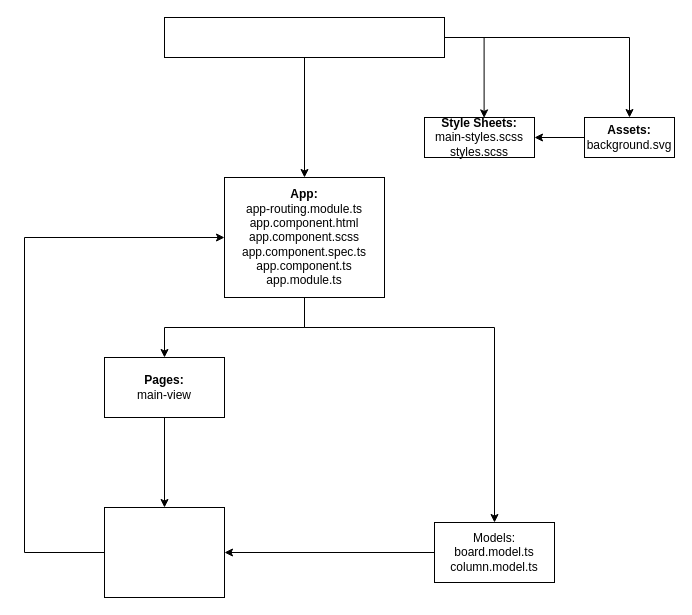
Some shapes in this 692 by 615 pixel diagram are drawn without their labels. The centre of each missing label's shape, as x and y in pixels:
"main-view: .component.html .component.scss .component.spec.ts component.ts" goes at point (164, 552).
"src" goes at point (304, 37).
